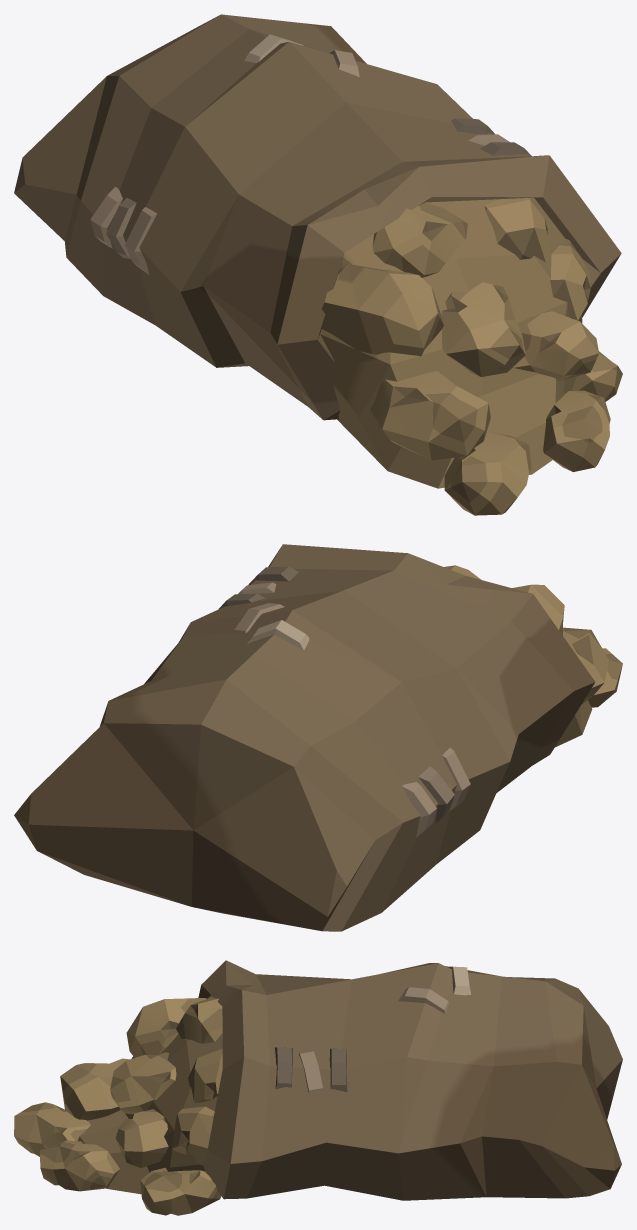
Rendered from SM_Prop_Sack_03.fbx.
3 views of the same model, one above another, from view 1: azimuth 30°, elevation 25°; view 2: azimuth 150°, elevation 25°; view 3: azimuth 270°, elevation 25° (orthographic). The views are drawn at different scales.
Parts seen in each view (by area): view 1: SM_Prop_Sack_03; view 2: SM_Prop_Sack_03; view 3: SM_Prop_Sack_03.
Boxes of the visible parts, <box> form: SM_Prop_Sack_03: <box>14,14,622,515</box>; SM_Prop_Sack_03: <box>14,544,622,931</box>; SM_Prop_Sack_03: <box>14,960,622,1215</box>.
Bounding box in the file's own units: 55.66 × 38.81 × 102.
